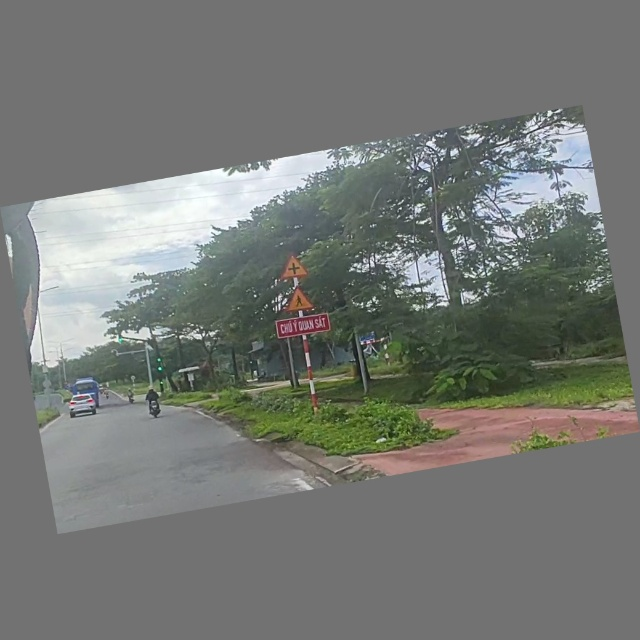W.205a: (277, 251, 312, 282)
W.224: (281, 283, 318, 316)
